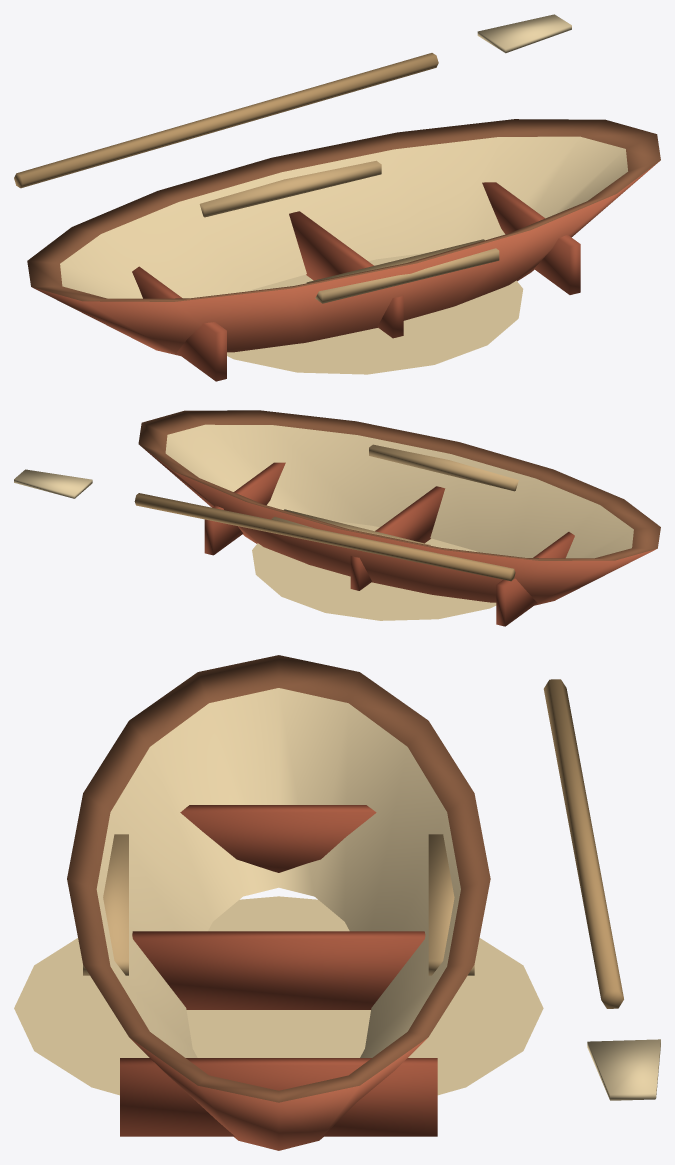
Rendered from xy_beach_rowboat.glb.
3 views of the same model, one above another, from view 1: azimuth 30°, elevation 25°; view 2: azimuth 150°, elevation 25°; view 3: azimuth 270°, elevation 25° (orthographic). The views are drawn at different scales.
Parts seen in each view (by area): view 1: Rowboat; view 2: Rowboat; view 3: Rowboat.
Boxes of the visible parts, left/top/right/bottom form: Rowboat: left=14, top=14, right=660, bottom=381; Rowboat: left=14, top=410, right=660, bottom=626; Rowboat: left=14, top=655, right=660, bottom=1150.
Size of the model in its own units: 4.81 by 0.8233 by 2.81.
